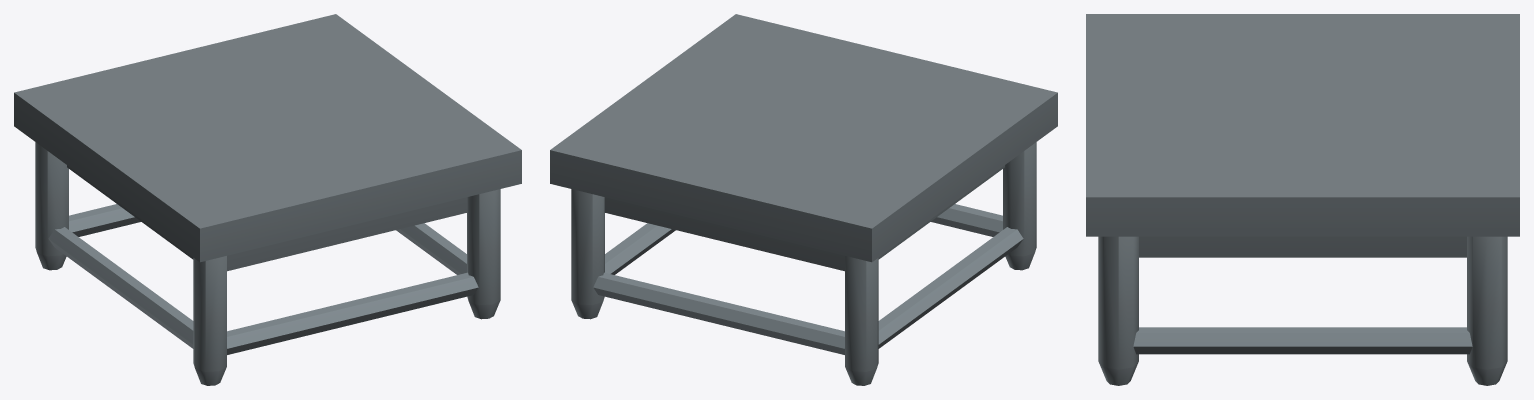
Rendered from furn_kitchen_table.glb.
3 views of the same model, side by side, from view 1: azimuth 30°, elevation 25°; view 2: azimuth 150°, elevation 25°; view 3: azimuth 270°, elevation 25° (orthographic). The views are drawn at different scales.
Visible parts, largest first — view 1: kitchentable_A; view 2: kitchentable_A; view 3: kitchentable_A.
Part boxes in pixels (<box>): kitchentable_A: <box>14,14,521,385</box>; kitchentable_A: <box>550,14,1057,385</box>; kitchentable_A: <box>1086,14,1519,385</box>.
Bounding box in the file's own units: 2 × 1 × 2.
1 material, 1 textured.
